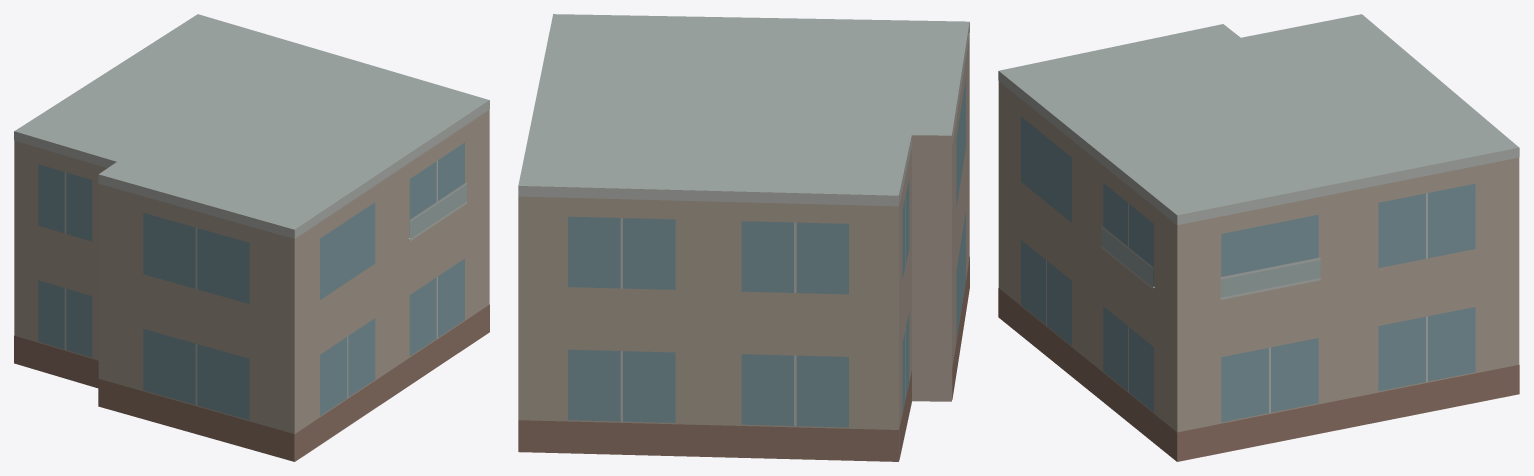
Rendered from survey-upis-32910292.glb.
3 views of the same model, side by side, from view 1: azimuth 30°, elevation 25°; view 2: azimuth 150°, elevation 25°; view 3: azimuth 270°, elevation 25° (orthographic). The views are drawn at different scales.
Parts seen in each view (by area): view 1: survey-upis-32910292.tmp; view 2: survey-upis-32910292.tmp; view 3: survey-upis-32910292.tmp.
Boxes of the visible parts, box(x1,y1,x2,y2) form: survey-upis-32910292.tmp: box(14, 14, 489, 461); survey-upis-32910292.tmp: box(518, 14, 969, 461); survey-upis-32910292.tmp: box(998, 14, 1519, 461).
Size of the model in its own units: 10.7 by 6.1 by 11.7.
